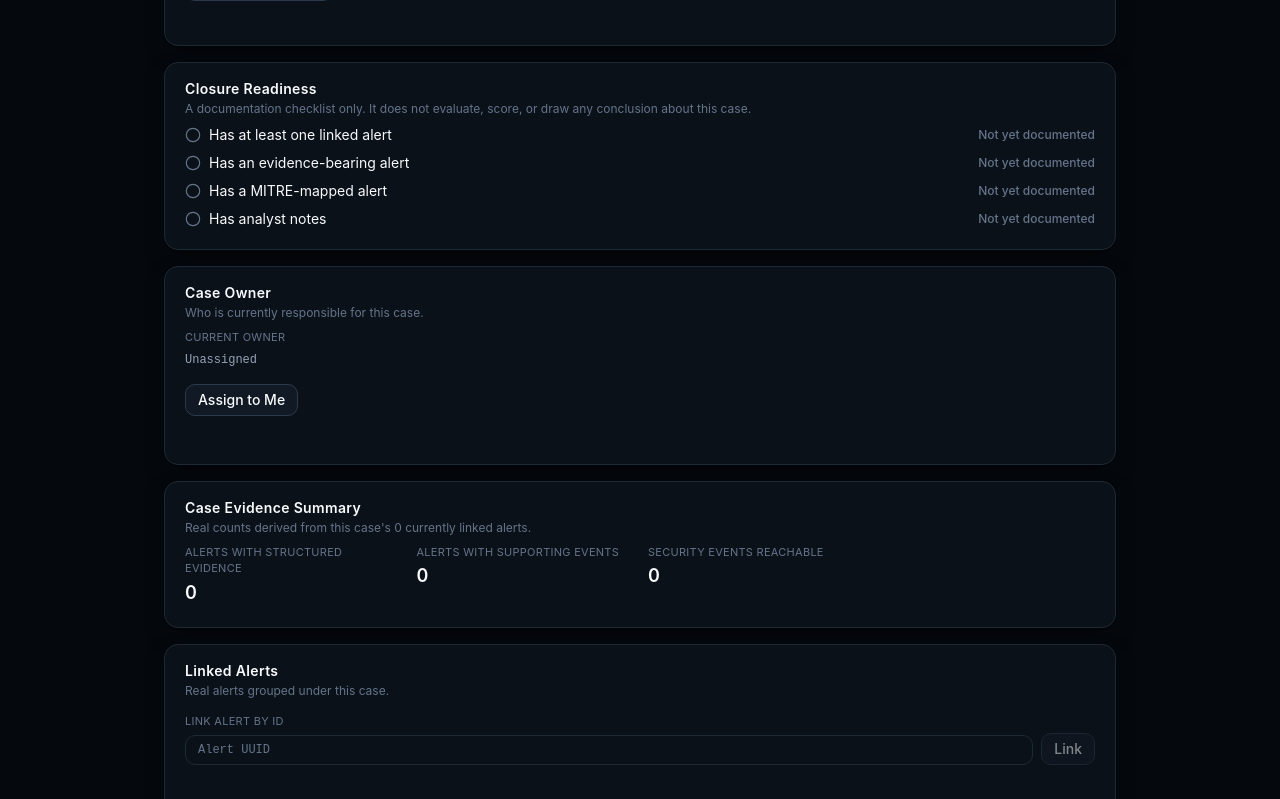
Scenario: Step 12S: SOC Case Detail (real backend data) › offers "Assign to Me" for an unowned case, then "Release Ownership" once owned by the current analyst
(page scrolled)
Expected: the heading "Case Owner" is shown, [185, 284, 271, 301]
Click the button "Assign to Me" at (242, 400), box [185, 384, 298, 416]
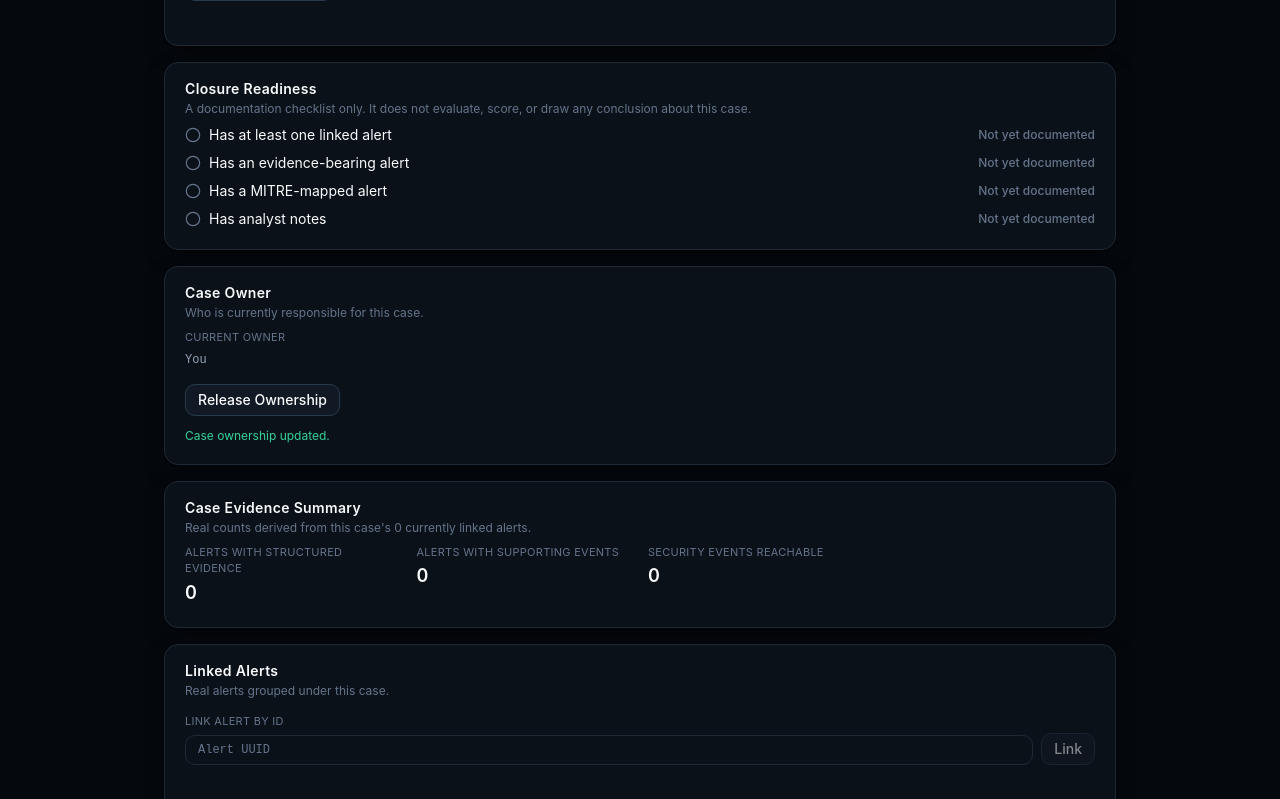
Expected: the button "Release Ownership" is shown, [185, 384, 340, 416]
